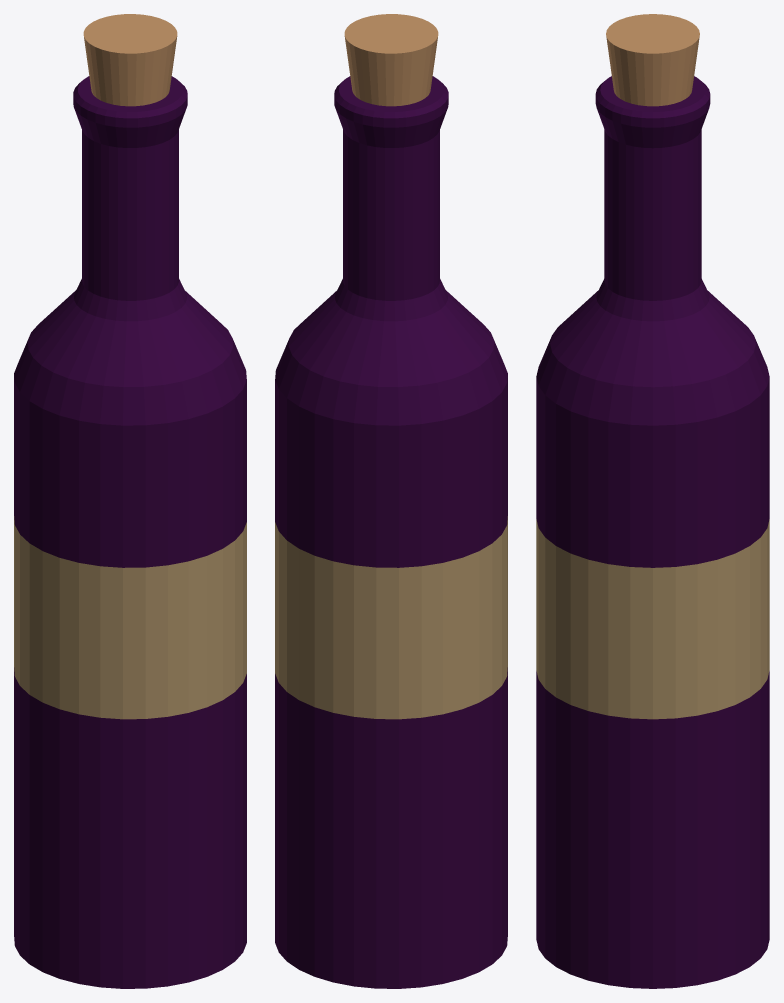
Rendered from WineBottle1_Purple.fbx.
3 views of the same model, side by side, from view 1: azimuth 30°, elevation 25°; view 2: azimuth 150°, elevation 25°; view 3: azimuth 270°, elevation 25° (orthographic).
Parts seen in each view (by area): view 1: WineBottle v1 Purple; view 2: WineBottle v1 Purple; view 3: WineBottle v1 Purple.
Boxes of the visible parts, x1=… form: WineBottle v1 Purple: x1=14, y1=14, x2=246, y2=988; WineBottle v1 Purple: x1=275, y1=14, x2=507, y2=988; WineBottle v1 Purple: x1=536, y1=14, x2=769, y2=988.
Size of the model in its own units: 7 by 30 by 7.
